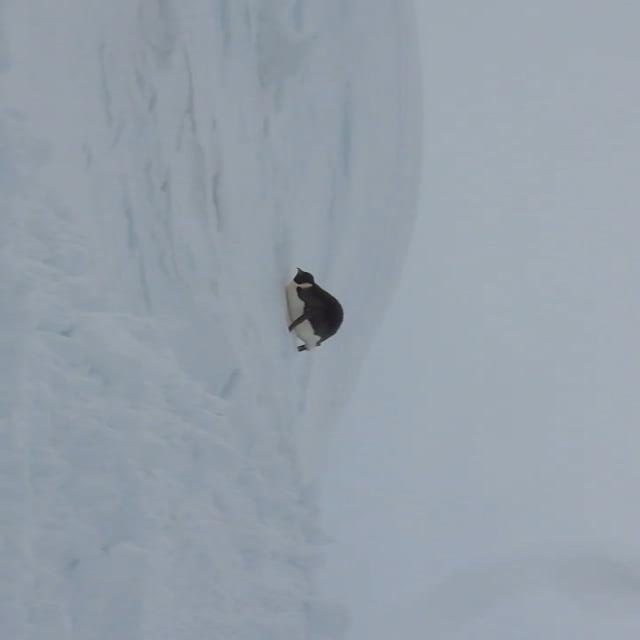penguin: (286, 266, 346, 351)
